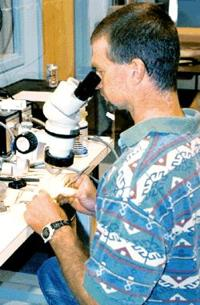person: (24, 3, 200, 305)
